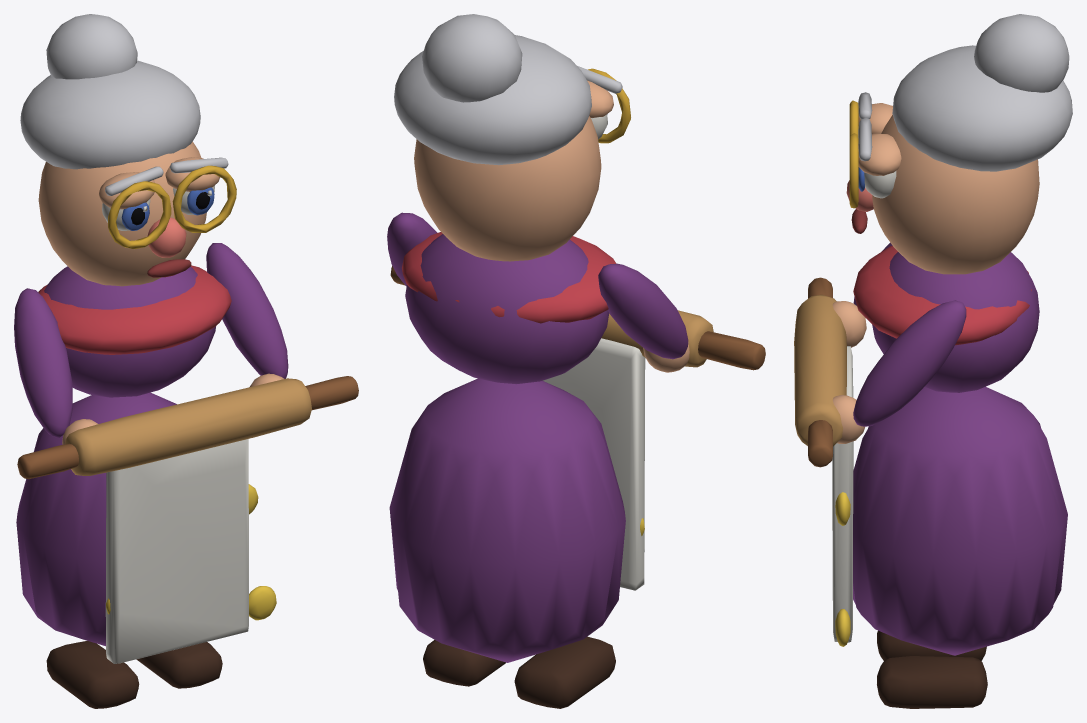
Rendered from OmaGertrud.fbx.
3 renders of one model, left to right at view 1: azimuth 30°, elevation 25°; view 2: azimuth 150°, elevation 25°; view 3: azimuth 270°, elevation 25°, orthographic. The views are drawn at different scales.
Parts seen in each view (by area): view 1: OmaGertrud; view 2: OmaGertrud; view 3: OmaGertrud.
Boxes of the visible parts, <box> form: OmaGertrud: <box>14,14,358,708</box>; OmaGertrud: <box>387,14,765,708</box>; OmaGertrud: <box>794,14,1072,708</box>.
Bounding box in the file's own units: 0.7187 × 1.31 × 0.4988.
